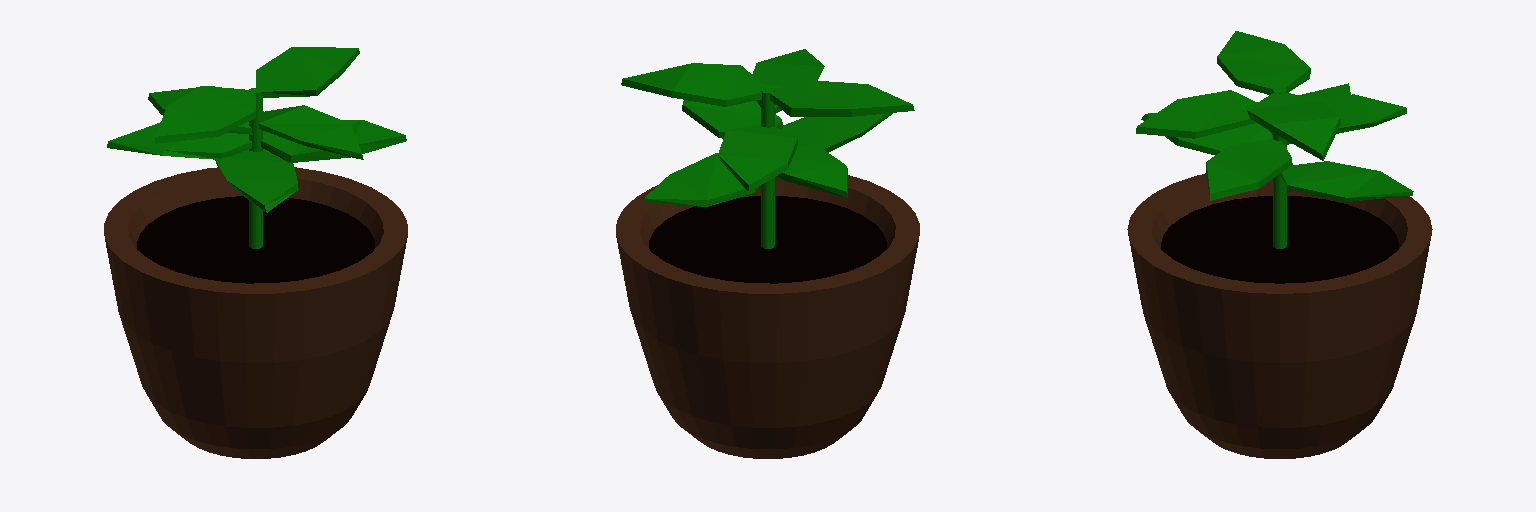
The model's file is plant_pot_1.obj.
3 renders of one model, left to right at view 1: azimuth 30°, elevation 25°; view 2: azimuth 150°, elevation 25°; view 3: azimuth 270°, elevation 25°, orthographic.
Parts seen in each view (by area): view 1: Cylinder; view 2: Cylinder; view 3: Cylinder.
Part boxes in pixels (x1,y1,x2,y2): Cylinder: (104,47,407,458); Cylinder: (616,49,919,458); Cylinder: (1127,31,1432,458).
Bounding box in the file's own units: 2 × 2.47 × 2.